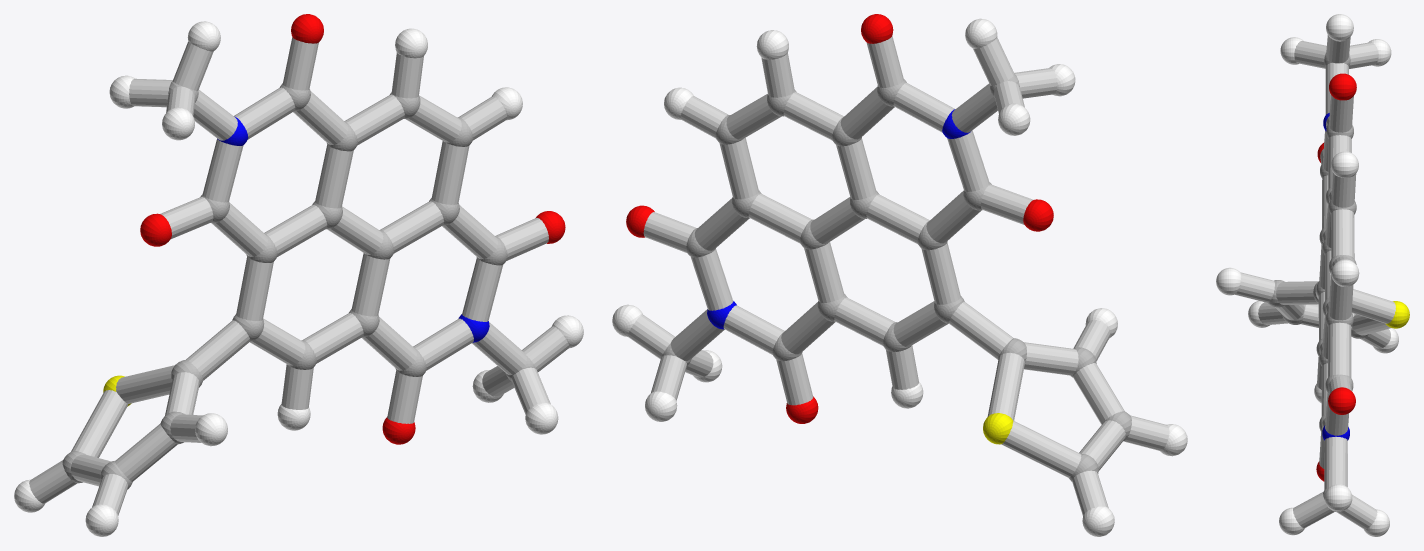
File: Dimethyl_Naphthalene_Dicarboximide_Phi_10_Theta_280_Thiophene.glb
The picture shows the model from 3 angles, left to right: view 1: azimuth 30°, elevation 25°; view 2: azimuth 150°, elevation 25°; view 3: azimuth 270°, elevation 25°; orthographic projection. The views are drawn at different scales.
Parts seen in each view (by area): view 1: grp14119, grp7241, grp1, grp12309, grp11585; view 2: grp14119, grp7241, grp1, grp12309, grp13757, grp11585; view 3: grp14119, grp7241, grp1, grp12309, grp13757.
Part boxes in pixels (bbox=[...]): grp14119: bbox=[29, 37, 569, 515]; grp7241: bbox=[14, 21, 583, 536]; grp1: bbox=[62, 81, 536, 489]; grp12309: bbox=[140, 14, 565, 444]; grp11585: bbox=[217, 116, 489, 342]; grp14119: bbox=[627, 36, 1169, 515]; grp7241: bbox=[612, 18, 1187, 536]; grp1: bbox=[662, 74, 1131, 481]; grp12309: bbox=[626, 14, 1053, 423]; grp13757: bbox=[983, 413, 1013, 444]; grp11585: bbox=[707, 109, 970, 329]; grp14119: bbox=[1235, 35, 1395, 529]; grp7241: bbox=[1216, 14, 1398, 536]; grp1: bbox=[1268, 53, 1368, 511]; grp12309: bbox=[1316, 73, 1356, 481]; grp13757: bbox=[1385, 301, 1409, 328].
Size of the model in its own units: 11.27 by 9.42 by 4.17.
